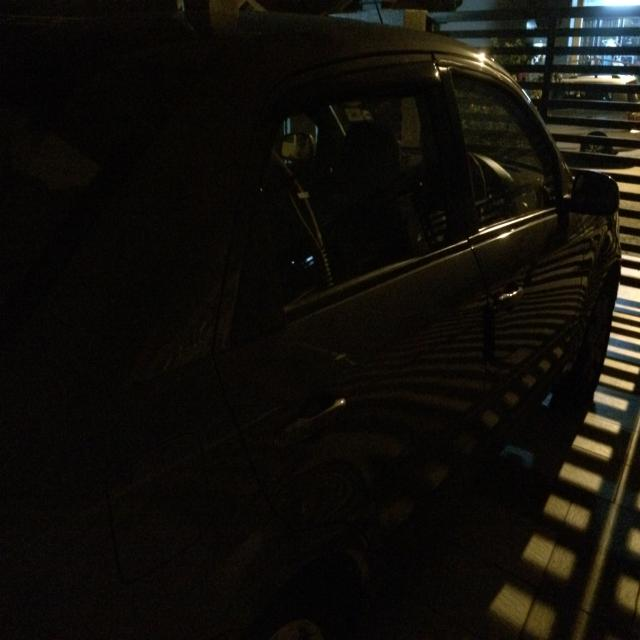Car: (111, 47, 610, 612)
